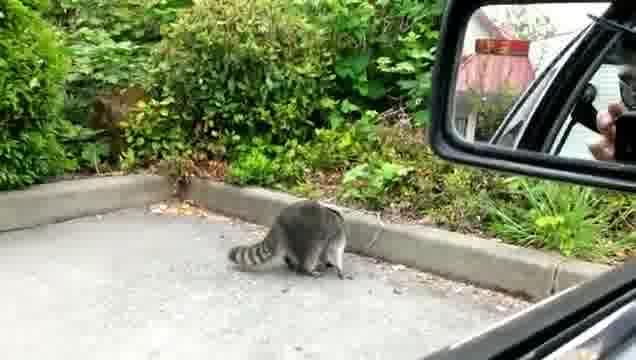raccoon: (227, 197, 354, 282)
